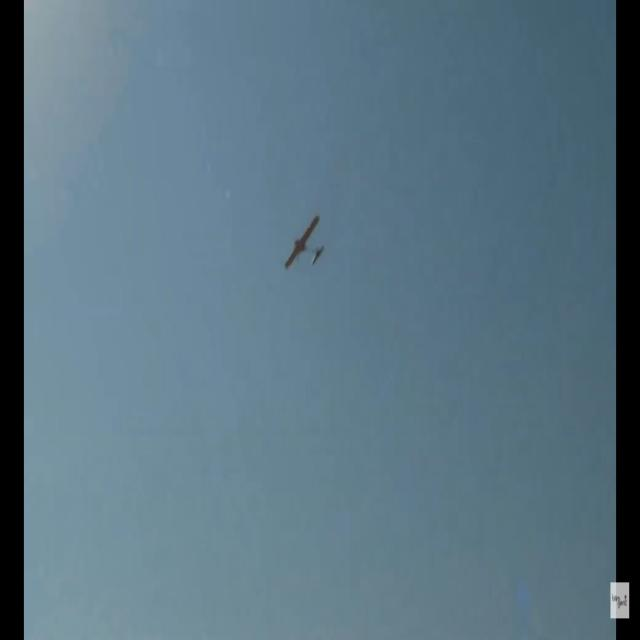iha: (284, 215, 325, 269)
